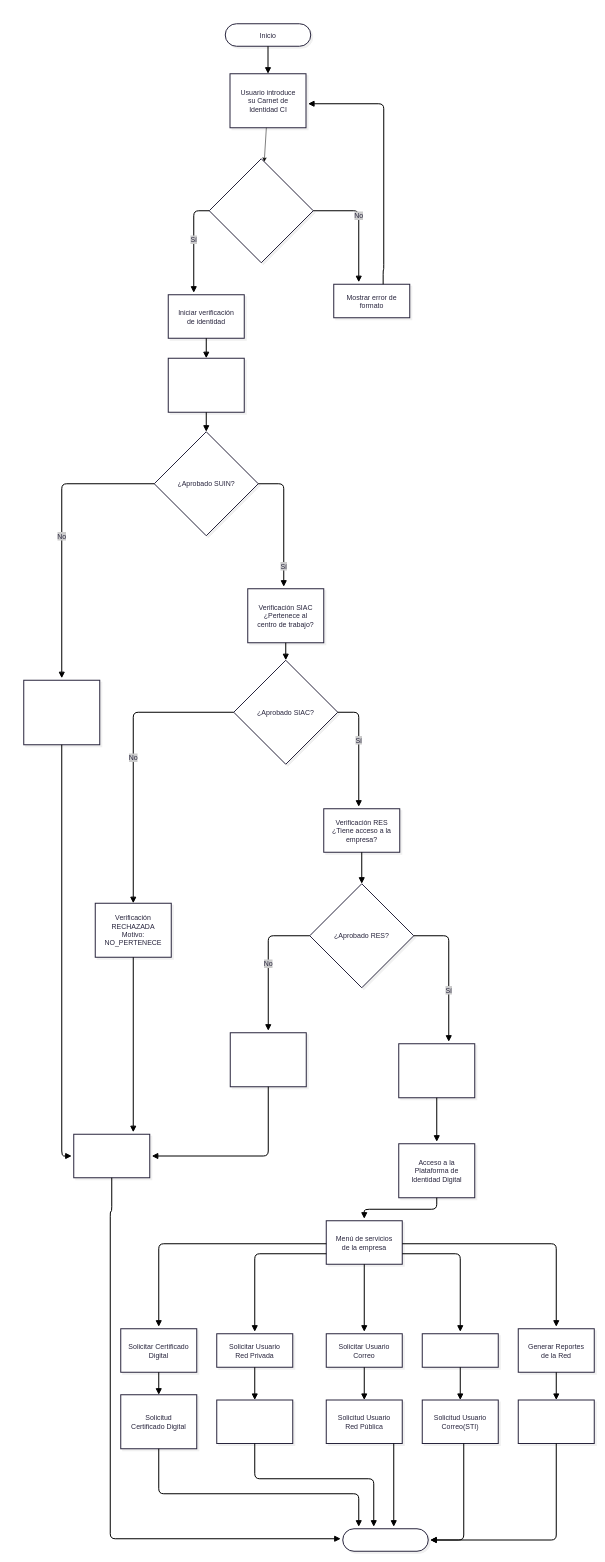
Image size: 605x1562. Some labels were removed from this diagram. Here are the shapes that lost their labels. From the top down, the centre of each, then its label:
At [262,211]: "¿Formato de CI válido?".
At [207,386]: "Verificación SUIN ¿Existe y está viva?".
At [62,713]: "Verificación RECHAZADA Motivo: NO_EXISTE / NO_VIVO".
At [269,1060]: "Verificación RECHAZADA Motivo: SIN_ACCESO".
At [437,1071]: "Verificación APROBADA Emitir credencial de identidad".
At [112,1157]: "Notificar al usuario con motivo".
At [461,1351]: "Solicitar Usuario Red Pública".
At [255,1422]: "Solicitud Usuario Red Privada".
At [557,1422]: "Generación y descarga de reportes".
At [386,1541]: "Fin".
